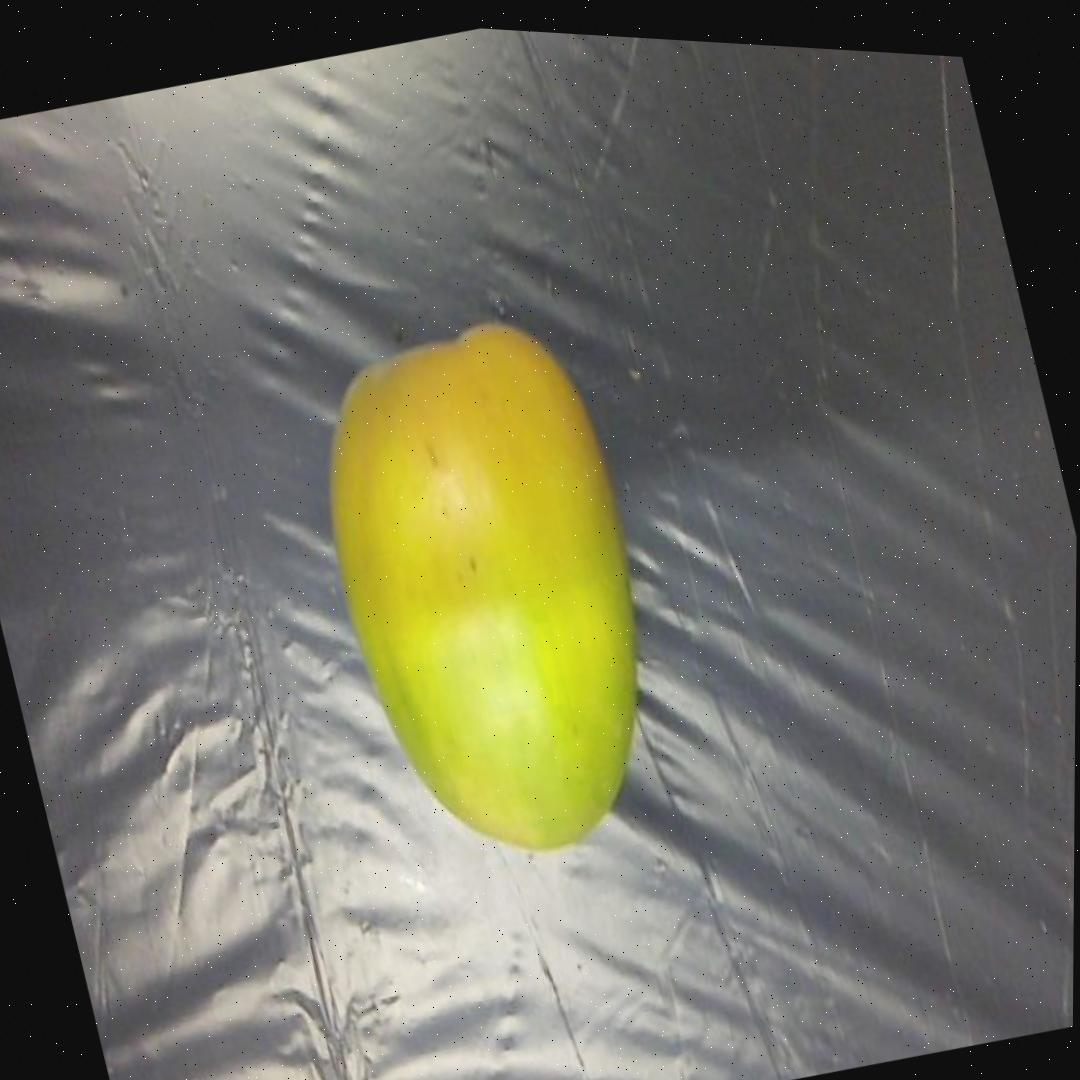mentah: (269, 277, 702, 901)
